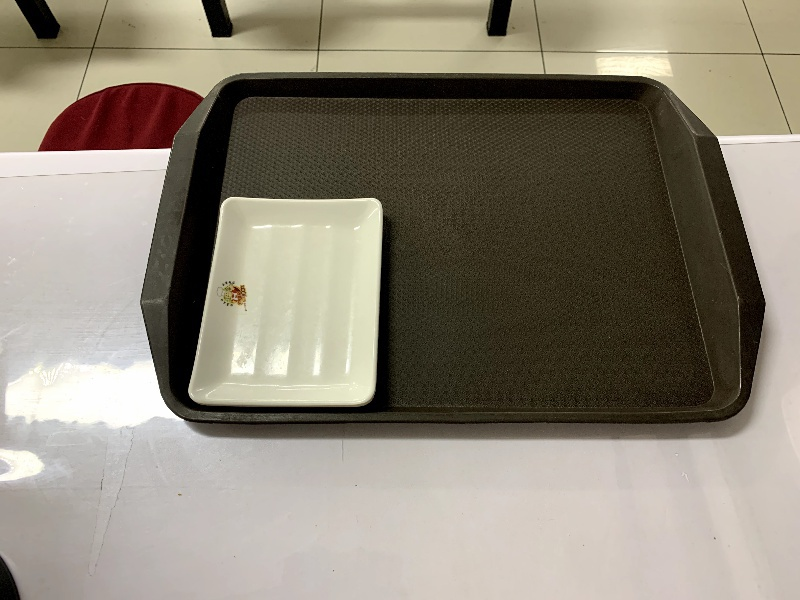dish4: (186, 194, 389, 412)
